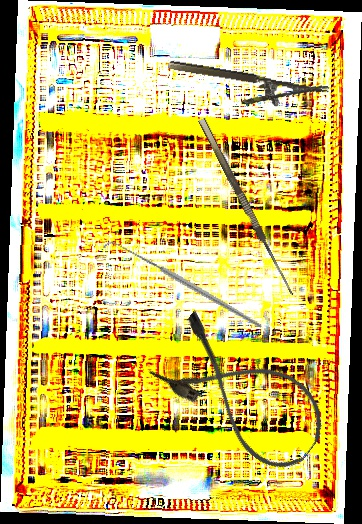Cannula: (145, 305, 340, 482)
Hook Surgical: (101, 195, 265, 377), (198, 112, 304, 298)
Needle Holder: (163, 58, 331, 119)
